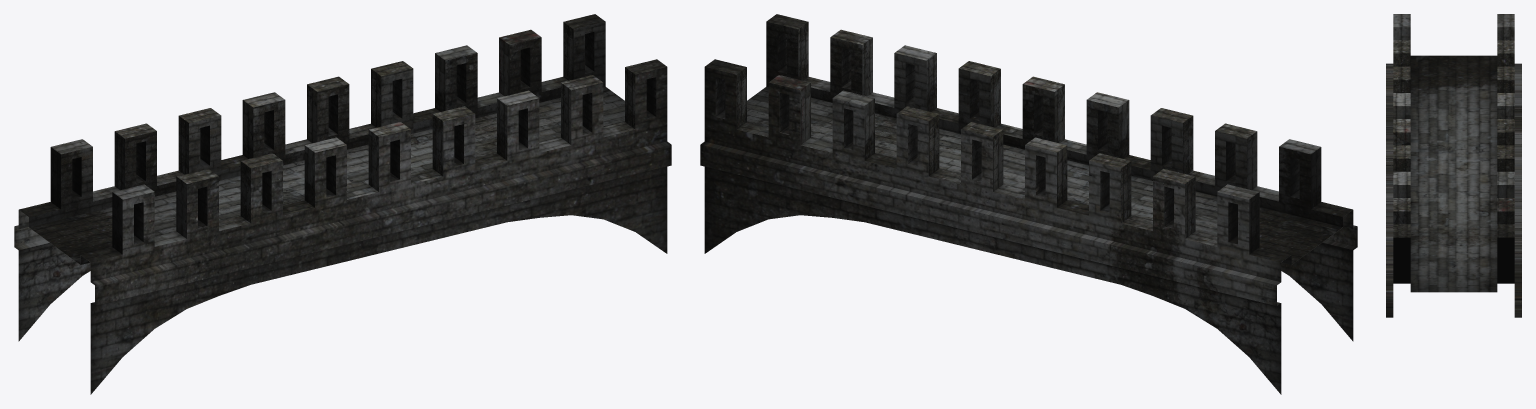
Rendered from Bridge.fbx.
3 renders of one model, left to right at view 1: azimuth 30°, elevation 25°; view 2: azimuth 150°, elevation 25°; view 3: azimuth 270°, elevation 25°, orthographic. The views are drawn at different scales.
Visible parts, largest first — view 1: BridgeStart, BridgeEnd, BridgeMiddle; view 2: BridgeStart, BridgeEnd, BridgeMiddle; view 3: BridgeEnd, BridgeStart, BridgeMiddle.
Boxes of the visible parts, left/top/right/bottom form: BridgeStart: left=14, top=108, right=287, bottom=394; BridgeEnd: left=413, top=14, right=671, bottom=253; BridgeMiddle: left=221, top=61, right=479, bottom=276; BridgeStart: left=1084, top=108, right=1357, bottom=394; BridgeEnd: left=700, top=14, right=958, bottom=253; BridgeMiddle: left=892, top=61, right=1150, bottom=276; BridgeEnd: left=1386, top=171, right=1521, bottom=317; BridgeStart: left=1386, top=14, right=1521, bottom=142; BridgeMiddle: left=1386, top=93, right=1521, bottom=221.
Size of the model in its own units: 360 by 87.29 by 112.
